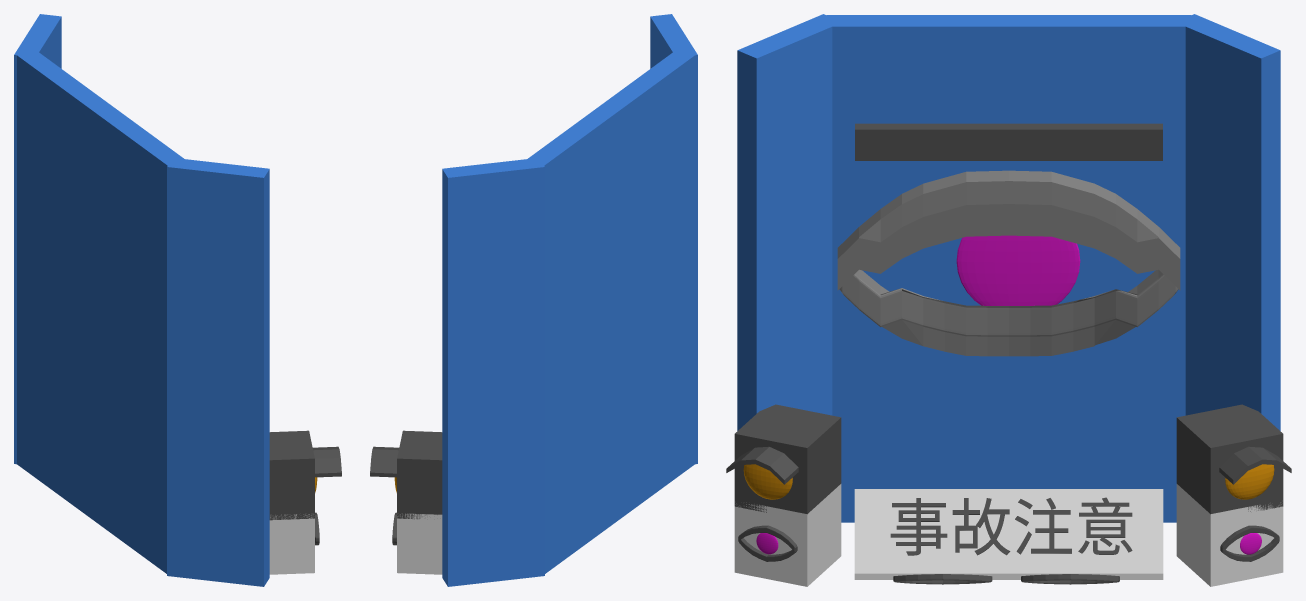
The model's file is kaken.glb.
3 views of the same model, side by side, from view 1: azimuth 30°, elevation 25°; view 2: azimuth 150°, elevation 25°; view 3: azimuth 270°, elevation 25° (orthographic). The views are drawn at different scales.
Parts seen in each view (by area): view 1: Cube, Cube.001, 立方体.010, Cube.002, 立方体.006, 立方体.012; view 2: Cube, Cube.002, 立方体.011, Cube.001, 立方体.009, 立方体.013; view 3: Cube, Cube.002, Cube.001, 立方体.003, 立方体.001, 立方体.002, 立方体, 立方体.010, 立方体.011, 球, 立方体.006, 立方体.009 (+9 smaller).
Boxes of the visible parts, x1,y1,x2,y2 form: Cube: (17, 50, 186, 573); Cube.001: (167, 159, 269, 586); 立方体.010: (269, 430, 314, 520); Cube.002: (14, 14, 61, 464); 立方体.006: (269, 514, 314, 574); 立方体.012: (312, 446, 341, 477); Cube: (525, 50, 694, 573); Cube.002: (442, 158, 544, 586); 立方体.011: (397, 430, 442, 519); Cube.001: (650, 14, 697, 464); 立方体.009: (397, 513, 442, 574); 立方体.013: (370, 446, 399, 477); Cube: (826, 15, 1191, 522); Cube.002: (1178, 14, 1280, 430); Cube.001: (737, 14, 841, 430); 立方体.003: (854, 489, 1163, 579); 立方体.001: (837, 170, 1180, 290); 立方体.002: (839, 269, 1178, 356); 立方体: (855, 123, 1162, 160); 立方体.010: (734, 404, 841, 514); 立方体.011: (1176, 404, 1283, 514); 球: (956, 235, 1080, 305); 立方体.006: (734, 484, 841, 586); 立方体.009: (1176, 484, 1283, 586).
Size of the model in its own units: 1.18 by 3.12 by 3.1.
